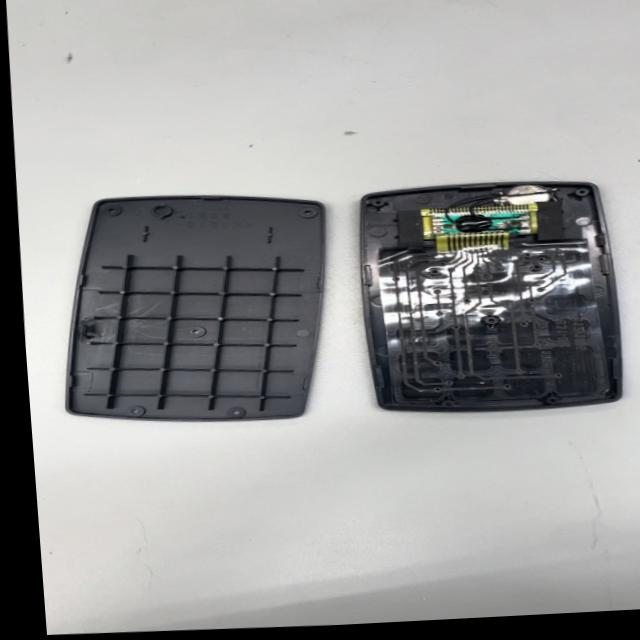back_cover: (44, 183, 341, 433)
front_panel: (347, 171, 639, 423)
